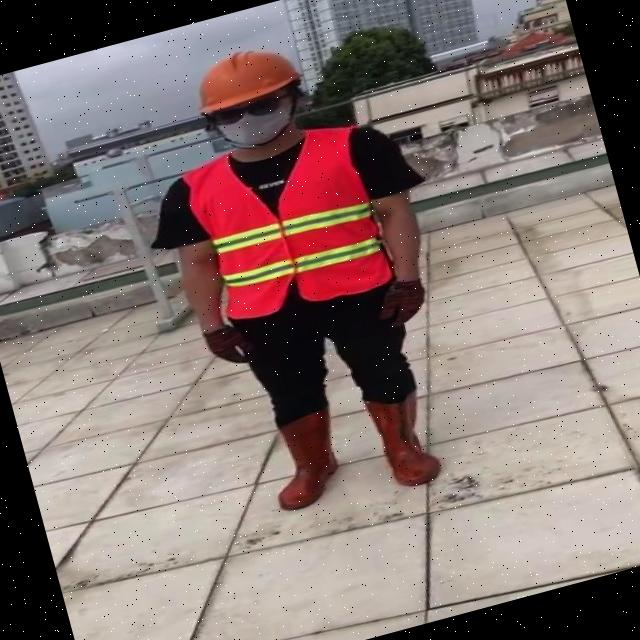boots: (256, 407, 348, 514), (360, 384, 445, 493)
helmet: (178, 38, 305, 118)
vest: (182, 119, 396, 328)
